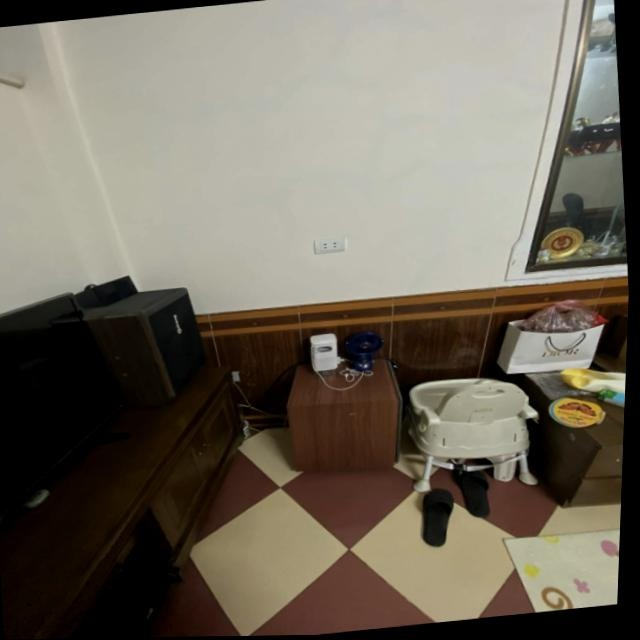outlet: (313, 235, 347, 254)
